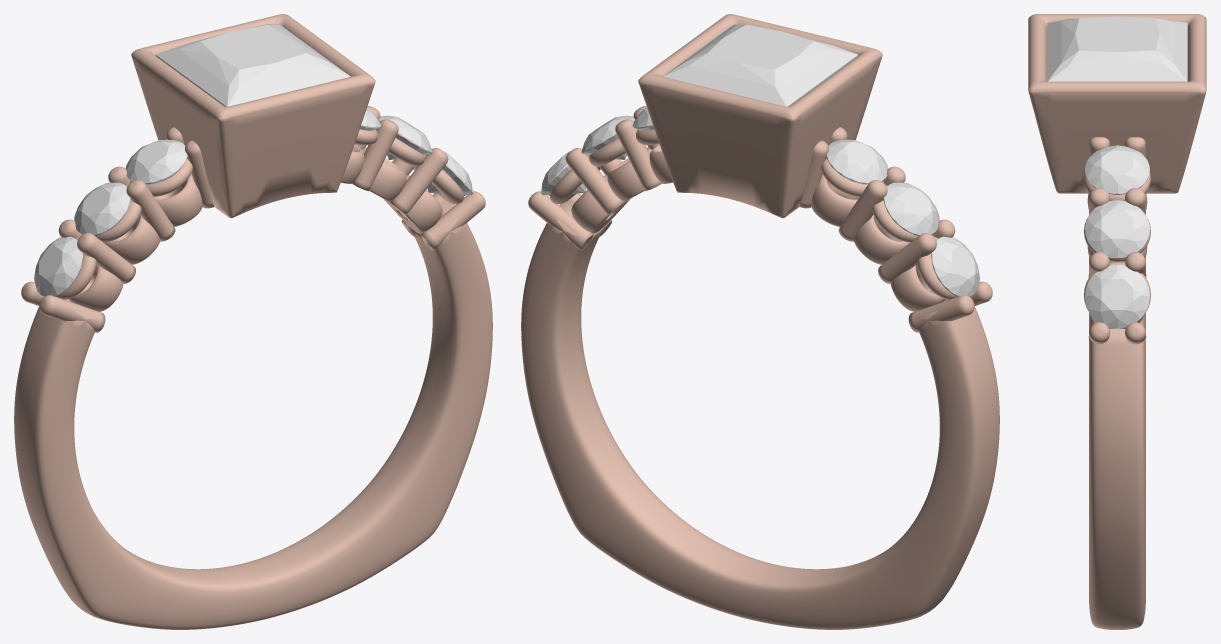
Rendered from diamond-princess-rosegold-bezelset-europeanshank-7stone.glb.
The picture shows the model from 3 angles, left to right: view 1: azimuth 30°, elevation 25°; view 2: azimuth 150°, elevation 25°; view 3: azimuth 270°, elevation 25°; orthographic projection.
Parts seen in each view (by area): view 1: metal, stone, side, side.001, side.002, side.004, side.005; view 2: metal, stone, side, side.001, side.002, side.004, side.005; view 3: metal, stone, side.005, side.004, side.003.
Part boxes in pixels (x1=…): metal: x1=14, y1=14, x2=492, y2=629; stone: x1=155, y1=24, x2=350, y2=106; side: x1=34, y1=236, x2=82, y2=296; side.001: x1=74, y1=182, x2=130, y2=235; side.002: x1=125, y1=139, x2=187, y2=184; side.004: x1=378, y1=115, x2=432, y2=159; side.005: x1=426, y1=151, x2=472, y2=195; metal: x1=521, y1=14, x2=999, y2=629; stone: x1=663, y1=24, x2=858, y2=106; side: x1=931, y1=236, x2=979, y2=296; side.001: x1=883, y1=182, x2=939, y2=235; side.002: x1=826, y1=139, x2=888, y2=184; side.004: x1=581, y1=115, x2=635, y2=159; side.005: x1=541, y1=151, x2=587, y2=195; metal: x1=1028, y1=14, x2=1206, y2=629; stone: x1=1047, y1=16, x2=1187, y2=81; side.005: x1=1085, y1=265, x2=1149, y2=328; side.004: x1=1085, y1=200, x2=1149, y2=258; side.003: x1=1085, y1=145, x2=1149, y2=194.
Size of the model in its own units: 20.1 by 23.65 by 6.89.
